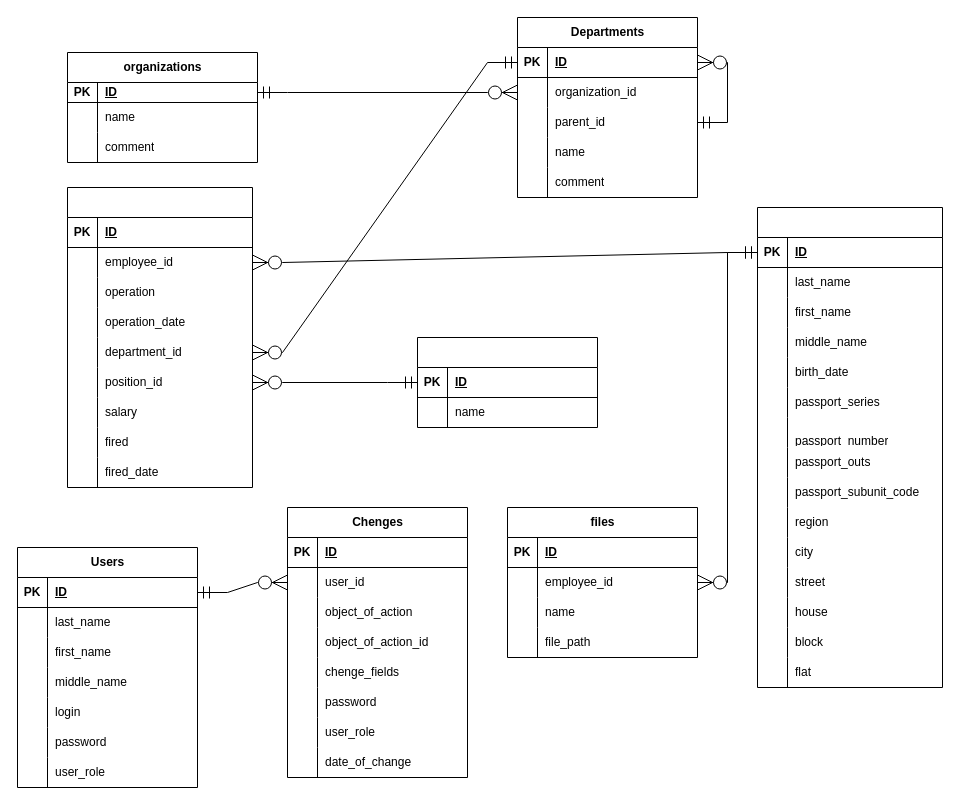
Some shapes in this 960 by 805 pixel diagram are drawn without their labels. Here are the shapes that lost their labels. From the top down, the box of each, then its label:
(66, 186, 252, 488): emp_operations
(416, 336, 598, 428): Positions
(756, 206, 942, 688): employees
